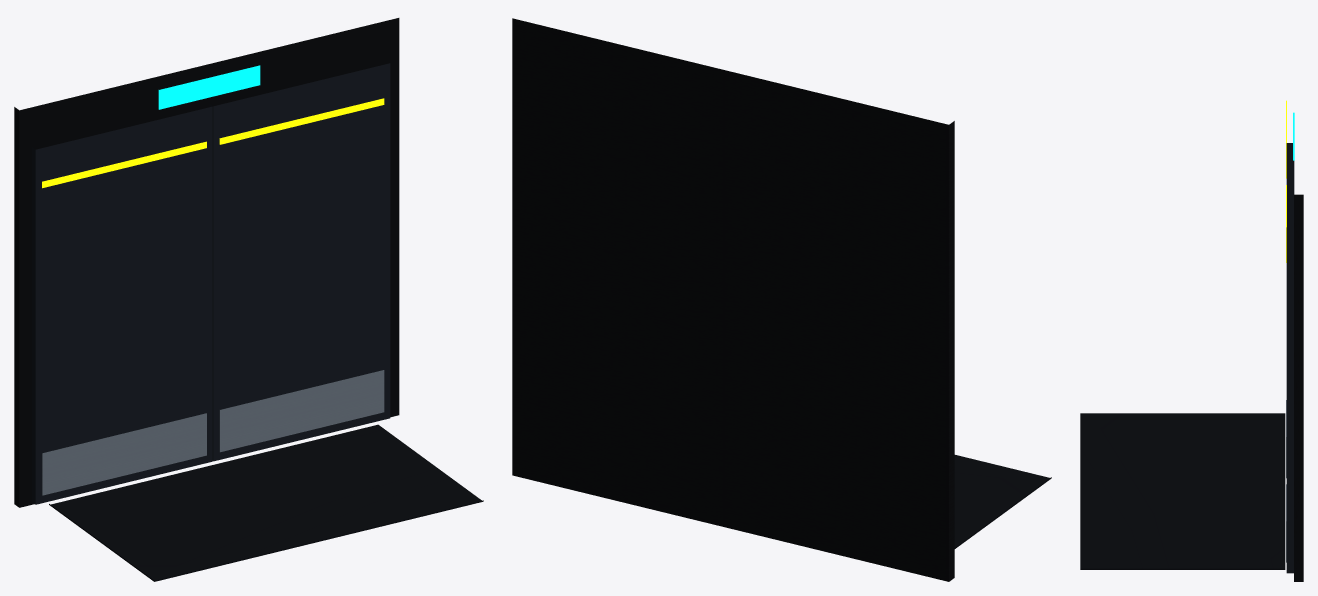
Rendered from tt_food_service_door.glb.
3 views of the same model, side by side, from view 1: azimuth 30°, elevation 25°; view 2: azimuth 150°, elevation 25°; view 3: azimuth 270°, elevation 25° (orthographic). The views are drawn at different scales.
Visible parts, largest first — view 1: Door_Leaves, Waste_Track, Door_Frame, Door_Kick, Door_Hazard, Door_Sign; view 2: Door_Frame, Waste_Track; view 3: Waste_Track, Door_Frame, Door_Leaves.
Boxes of the visible parts, box(x1,y1,x2,y2) form: Door_Leaves: box(32, 63, 390, 504); Waste_Track: box(49, 424, 483, 581); Door_Frame: box(14, 18, 399, 507); Door_Kick: box(42, 370, 384, 495); Door_Hazard: box(42, 98, 384, 188); Door_Sign: box(158, 65, 260, 109); Door_Frame: box(512, 18, 954, 581); Waste_Track: box(954, 455, 1051, 548); Waste_Track: box(1080, 413, 1285, 569); Door_Frame: box(1294, 194, 1303, 581); Door_Leaves: box(1286, 143, 1294, 573).
Size of what is drawn, in the model's own units: 3 by 3 by 1.57.
6 materials, 4 textured.
